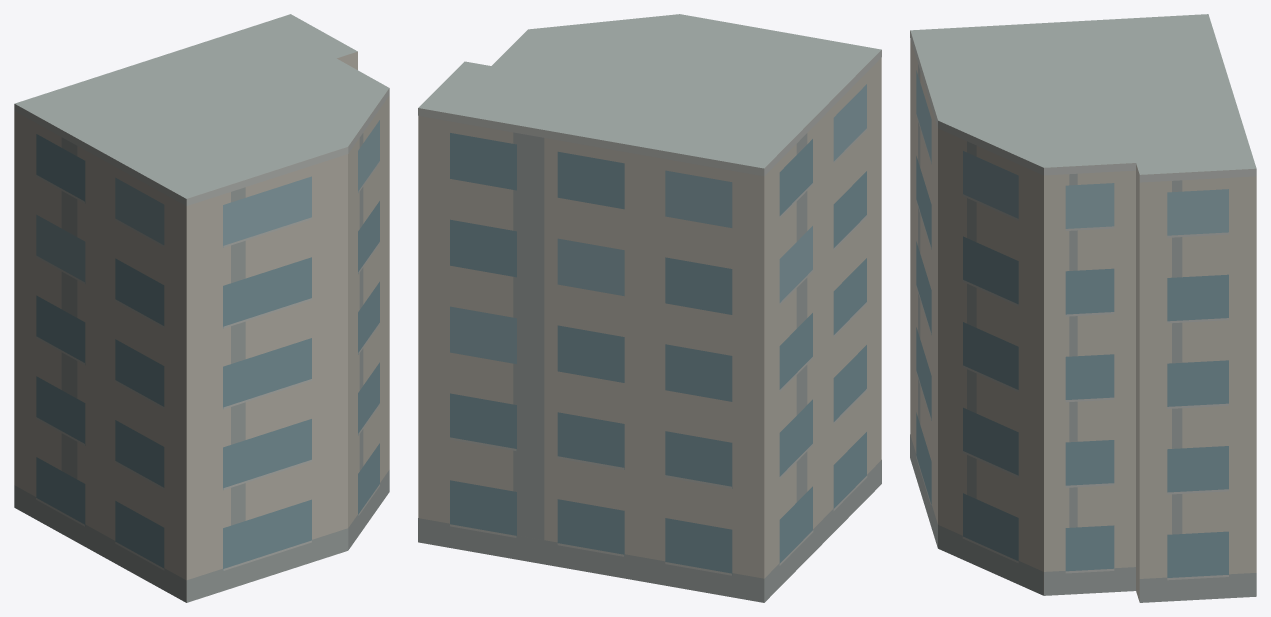
File: survey-upis-32700936.glb
The picture shows the model from 3 angles, left to right: view 1: azimuth 30°, elevation 25°; view 2: azimuth 150°, elevation 25°; view 3: azimuth 270°, elevation 25°; orthographic projection. The views are drawn at different scales.
Parts seen in each view (by area): view 1: survey-upis-32700936.tmp; view 2: survey-upis-32700936.tmp; view 3: survey-upis-32700936.tmp.
Boxes of the visible parts, x1,y1,x2,y2 form: survey-upis-32700936.tmp: [14, 14, 389, 602]; survey-upis-32700936.tmp: [418, 14, 881, 602]; survey-upis-32700936.tmp: [910, 14, 1256, 602].
Size of the model in its own units: 10.89 by 13.5 by 9.91.
